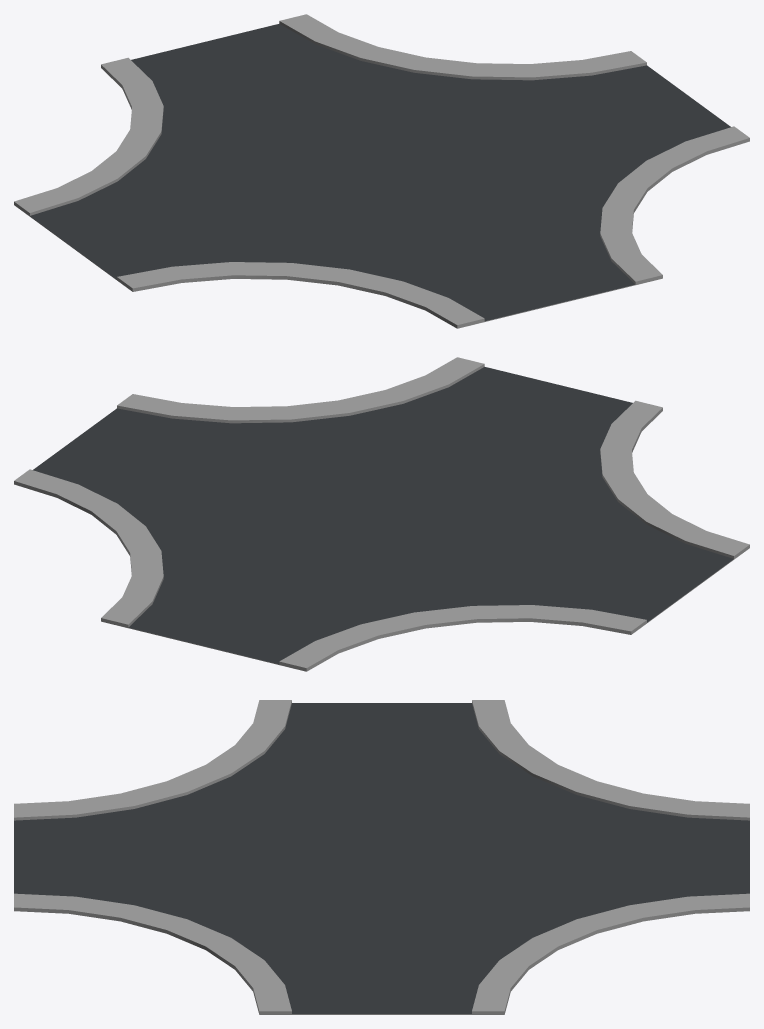
File: Road_Junction.fbx
3 renders of one model, top to bottom at view 1: azimuth 30°, elevation 25°; view 2: azimuth 150°, elevation 25°; view 3: azimuth 270°, elevation 25°, orthographic. The views are drawn at different scales.
Visible parts, largest first — view 1: Road_Junction; view 2: Road_Junction; view 3: Road_Junction.
Part boxes in pixels (x1,y1,x2,y2): Road_Junction: (14,14,749,328); Road_Junction: (14,357,749,671); Road_Junction: (14,700,749,1014).
Size of the model in its own units: 1800 by 10 by 1800.
